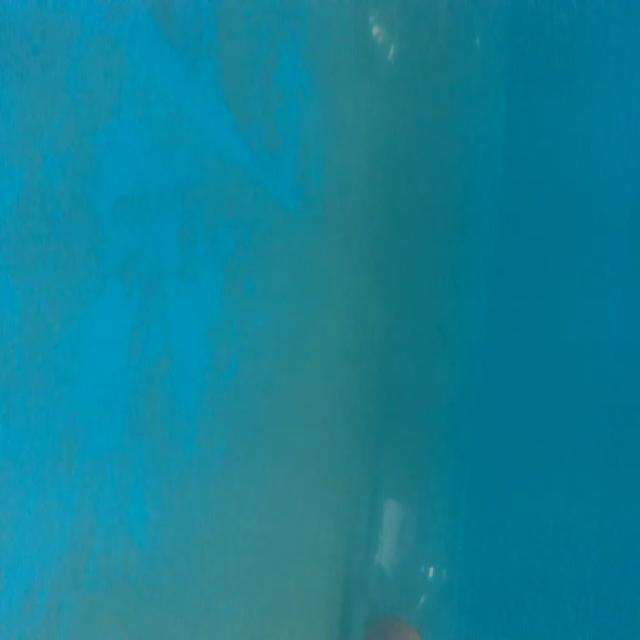plastic bottle: (358, 321, 464, 640)
